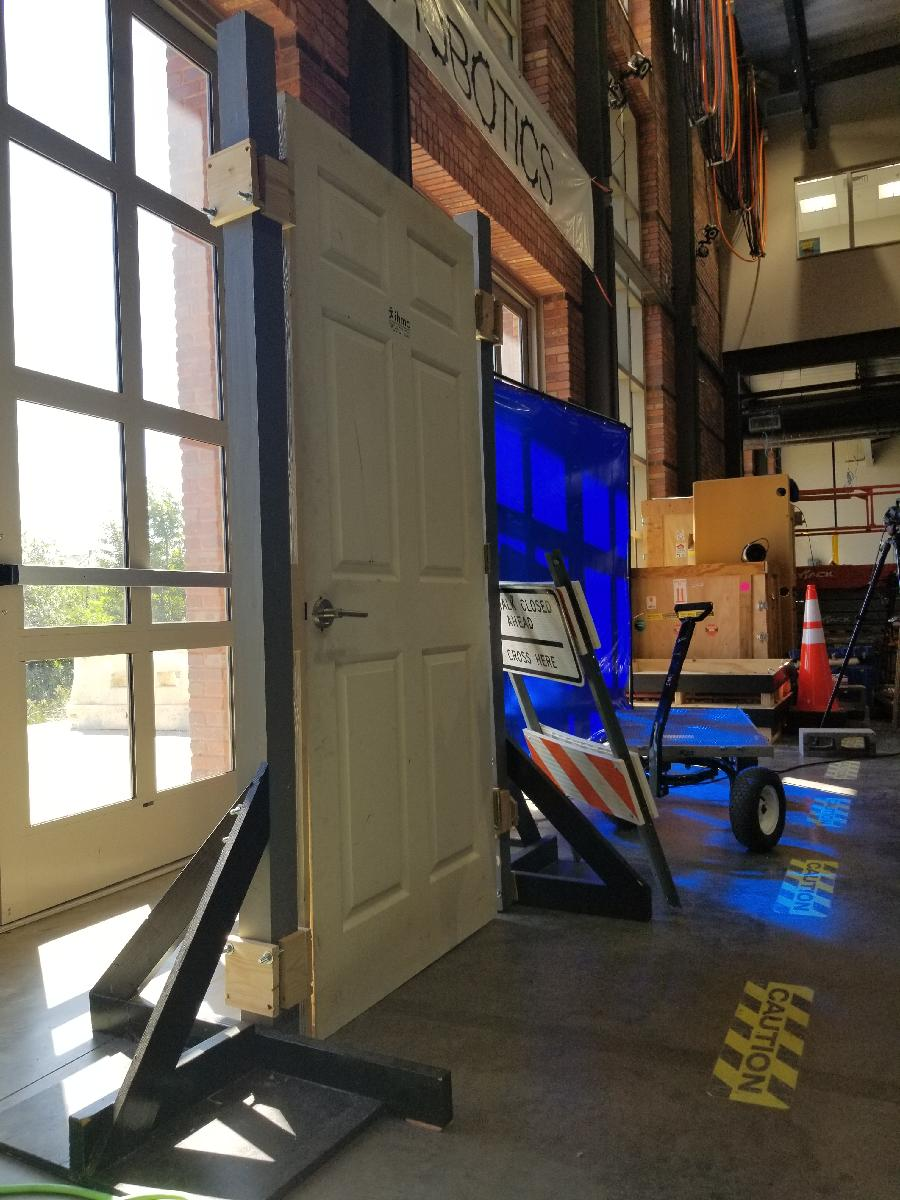door: (269, 84, 513, 1052)
doorHandle: (312, 597, 378, 632)
